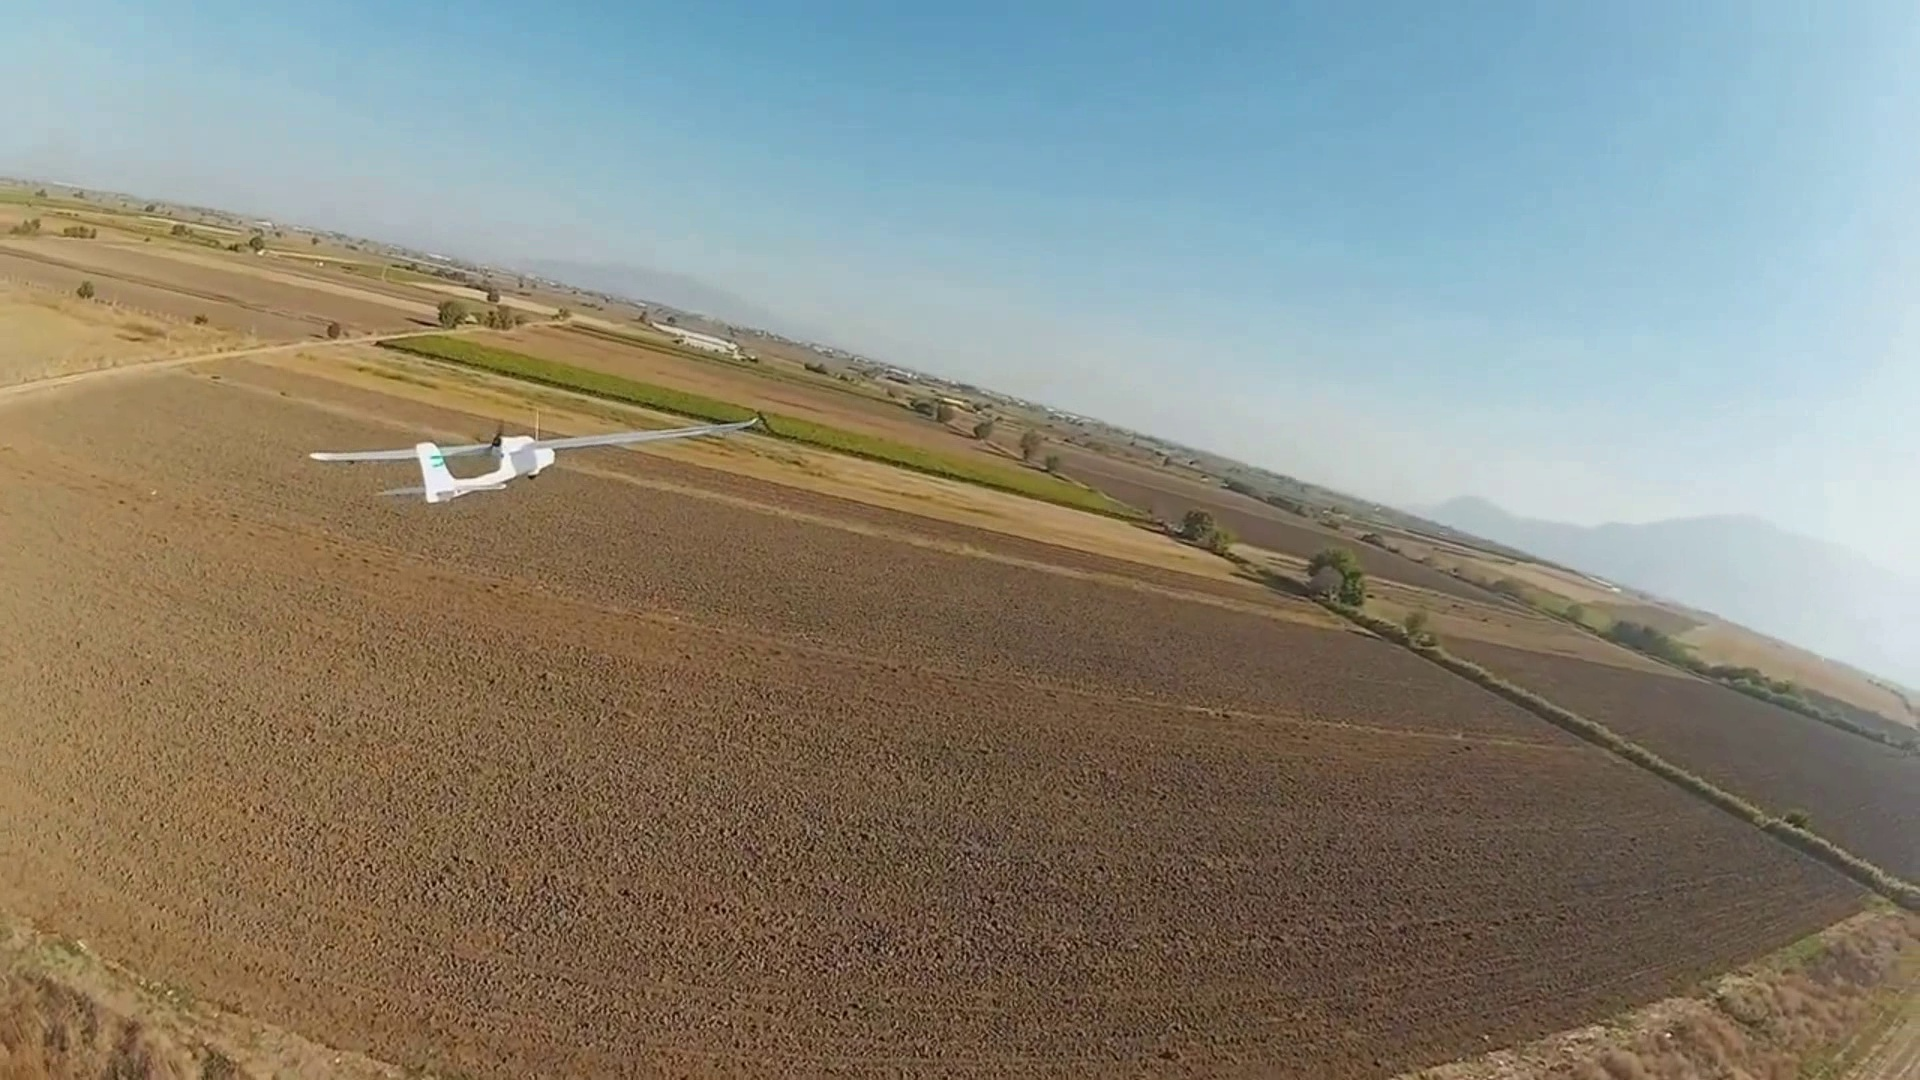airplane: (307, 429, 554, 506)
